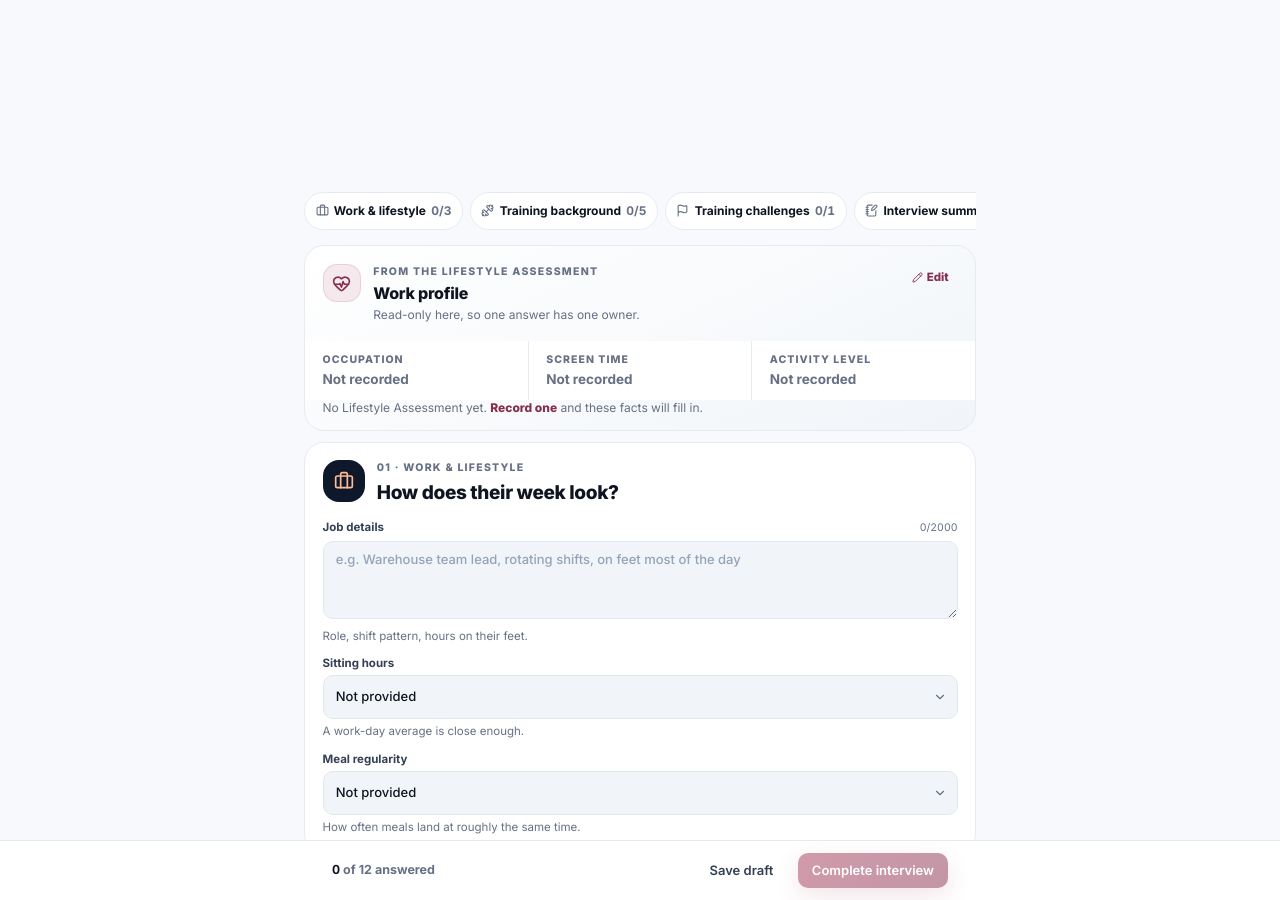
Test: <InterviewPage /> › counts a section as answered only when every visible question in it is
The image size is (1280, 900).
Replace the text in the text box labelled "Job details" with "Warehouse team lead" at (640, 580), box [322,541,958,619]
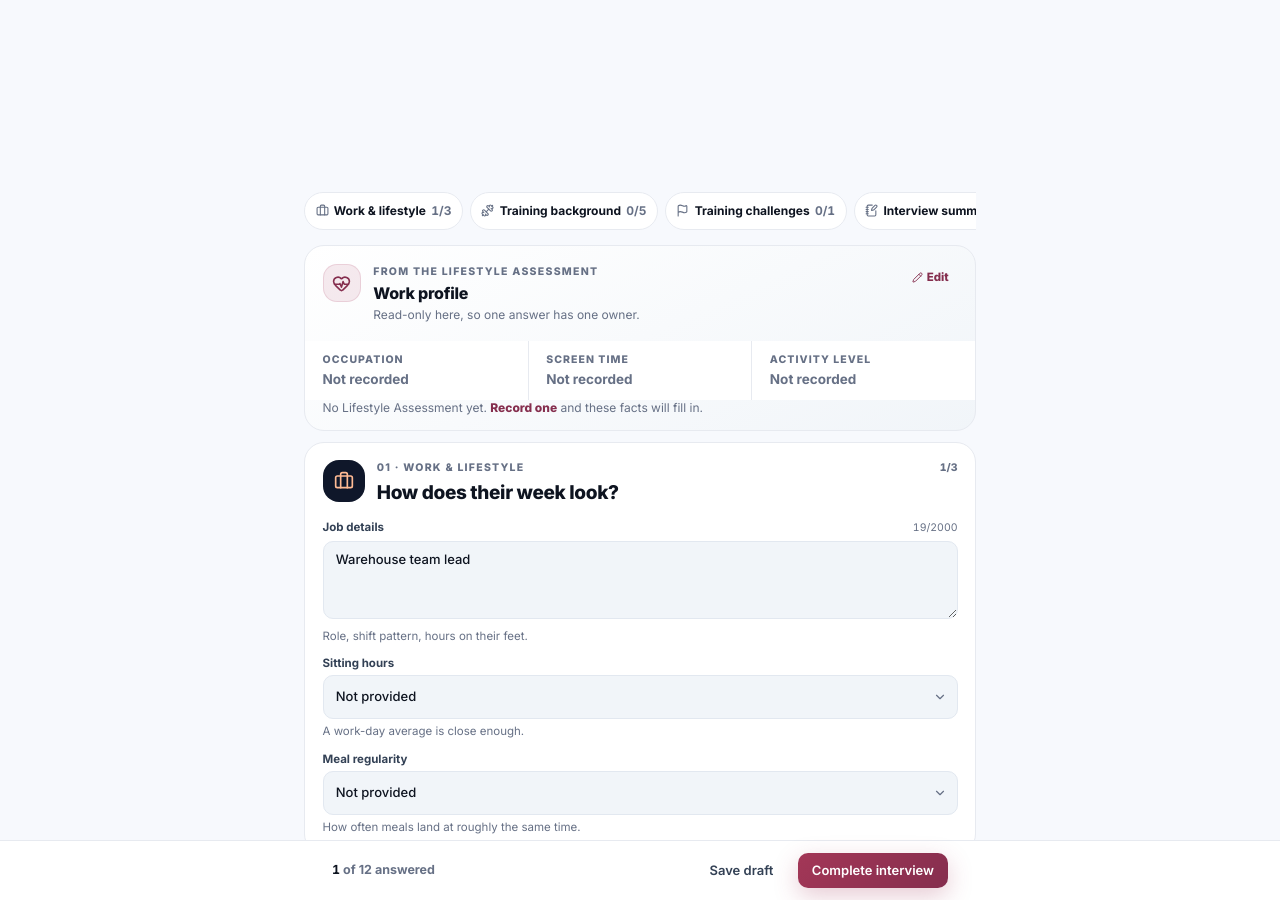
Select "4 – 6 hours" in the dropdown labelled "Sitting hours" at (640, 697), box [322,675,958,719]
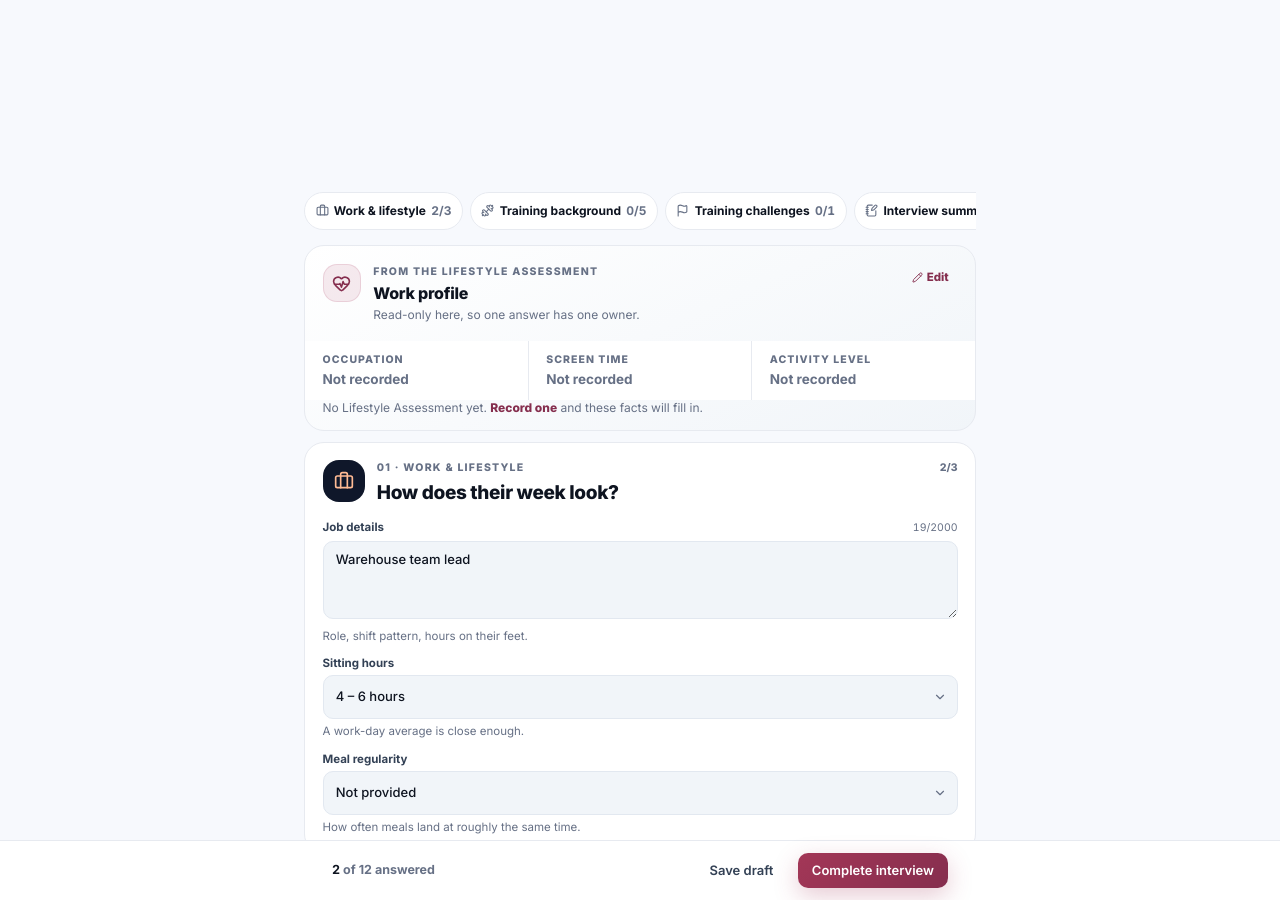
Result: the text "2/3" in the row of "01" is shown at [940,460,958,476]
Select "Irregular" in the dropdown labelled "Meal regularity" at (640, 793), box [322,771,958,815]
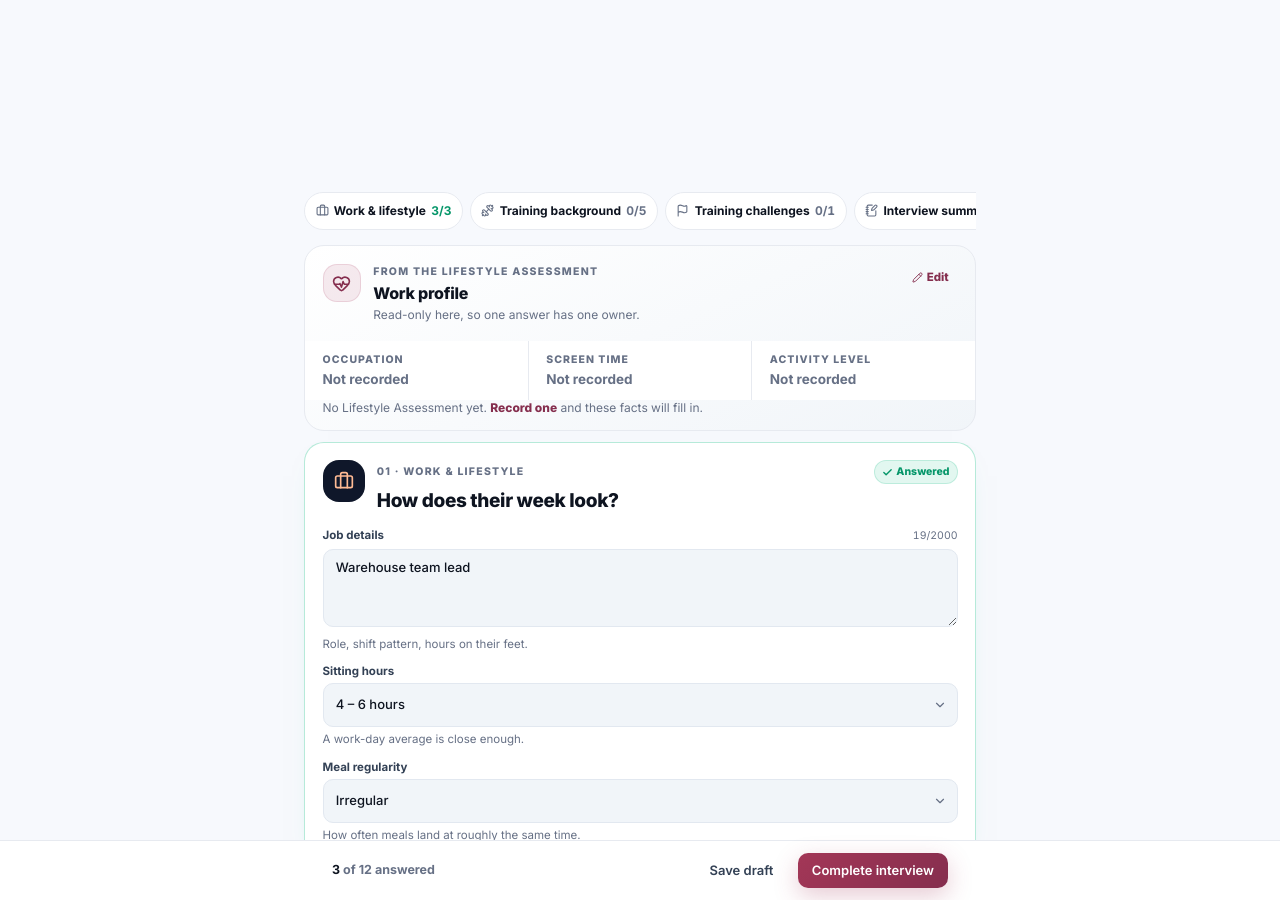
Result: the text "Answered" is shown at [874,460,958,484]
